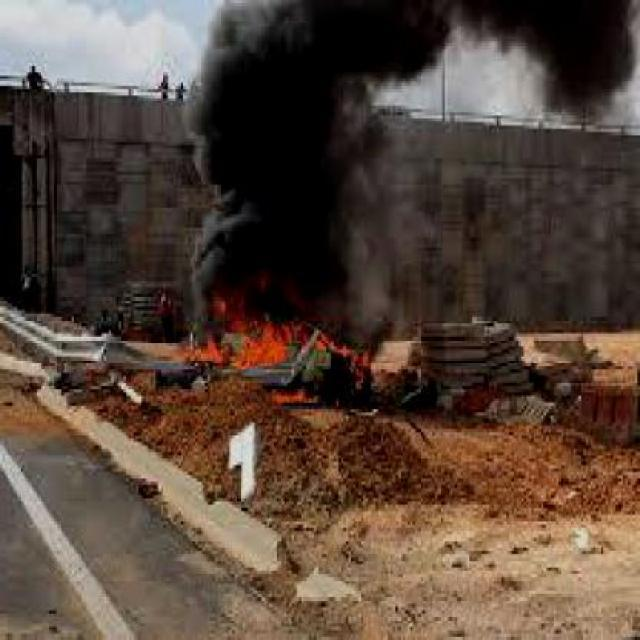Fire: (180, 270, 366, 396)
Smoke: (176, 0, 638, 266)
